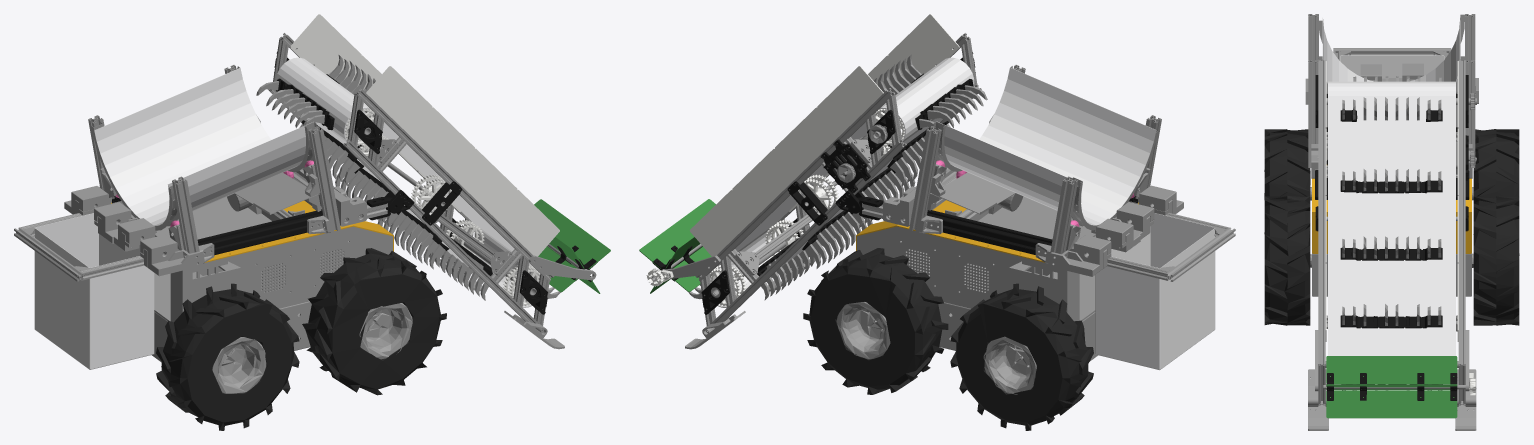
The model's file is beachboy.glb.
3 views of the same model, side by side, from view 1: azimuth 30°, elevation 25°; view 2: azimuth 150°, elevation 25°; view 3: azimuth 270°, elevation 25° (orthographic). The views are drawn at different scales.
Parts seen in each view (by area): view 1: k_wheels__mat_3, d_drum__mat_4, c_frame__mat_5, b_bin__mat_4, k_body__mat_1, c_frame__mat_1, c_belt__mat_1, c_belt__mat_4, k_wheels__mat_1, b_pins__mat_1, d_frame__mat_1, c_paddle__mat_7 (+13 smaller); view 2: k_wheels__mat_3, d_drum__mat_4, b_bin__mat_4, c_frame__mat_5, k_body__mat_1, c_frame__mat_1, c_belt__mat_1, k_wheels__mat_1, c_belt__mat_4, b_pins__mat_1, d_frame__mat_1, c_paddle__mat_7 (+15 smaller); view 3: c_belt__mat_4, k_wheels__mat_3, c_paddle__mat_7, c_frame__mat_1, c_belt__mat_2, c_belt__mat_1, d_frame__mat_1, d_drum__mat_4, c_skid__mat_1, b_bin__mat_4, c_frame__mat_5, b_pins__mat_1 (+9 smaller).
Boxes of the visible parts, x1,y1,x2,y2 form: k_wheels__mat_3: (156, 248, 446, 430); d_drum__mat_4: (94, 68, 311, 225); c_frame__mat_5: (290, 14, 559, 306); b_bin__mat_4: (34, 213, 154, 369); k_body__mat_1: (151, 226, 392, 362); c_frame__mat_1: (268, 33, 554, 328); c_belt__mat_1: (256, 55, 560, 300); c_belt__mat_4: (275, 57, 539, 307); k_wheels__mat_1: (212, 303, 412, 393); b_pins__mat_1: (64, 186, 203, 276); d_frame__mat_1: (88, 65, 340, 263); c_paddle__mat_7: (534, 199, 610, 293); k_wheels__mat_3: (803, 248, 1093, 430); d_drum__mat_4: (937, 67, 1156, 225); b_bin__mat_4: (1095, 213, 1215, 370); c_frame__mat_5: (690, 14, 959, 306); k_body__mat_1: (857, 226, 1097, 360); c_frame__mat_1: (695, 33, 981, 328); c_belt__mat_1: (688, 54, 987, 300); k_wheels__mat_1: (836, 302, 1036, 394); c_belt__mat_4: (710, 57, 974, 307); b_pins__mat_1: (1048, 185, 1183, 276); d_frame__mat_1: (909, 64, 1161, 263); c_paddle__mat_7: (639, 199, 715, 293); c_belt__mat_4: (1328, 81, 1455, 384); k_wheels__mat_3: (1264, 129, 1519, 325); c_paddle__mat_7: (1326, 356, 1457, 418); c_frame__mat_1: (1318, 60, 1476, 405); c_belt__mat_2: (1340, 110, 1442, 390); c_belt__mat_1: (1342, 76, 1441, 390); d_frame__mat_1: (1308, 14, 1475, 167); d_drum__mat_4: (1322, 18, 1460, 83); c_skid__mat_1: (1308, 369, 1476, 430); b_bin__mat_4: (1340, 55, 1444, 78); c_frame__mat_5: (1325, 61, 1458, 341); b_pins__mat_1: (1305, 63, 1478, 104).
Bounding box in the file's own units: 1.63 × 0.9256 × 0.7273.
